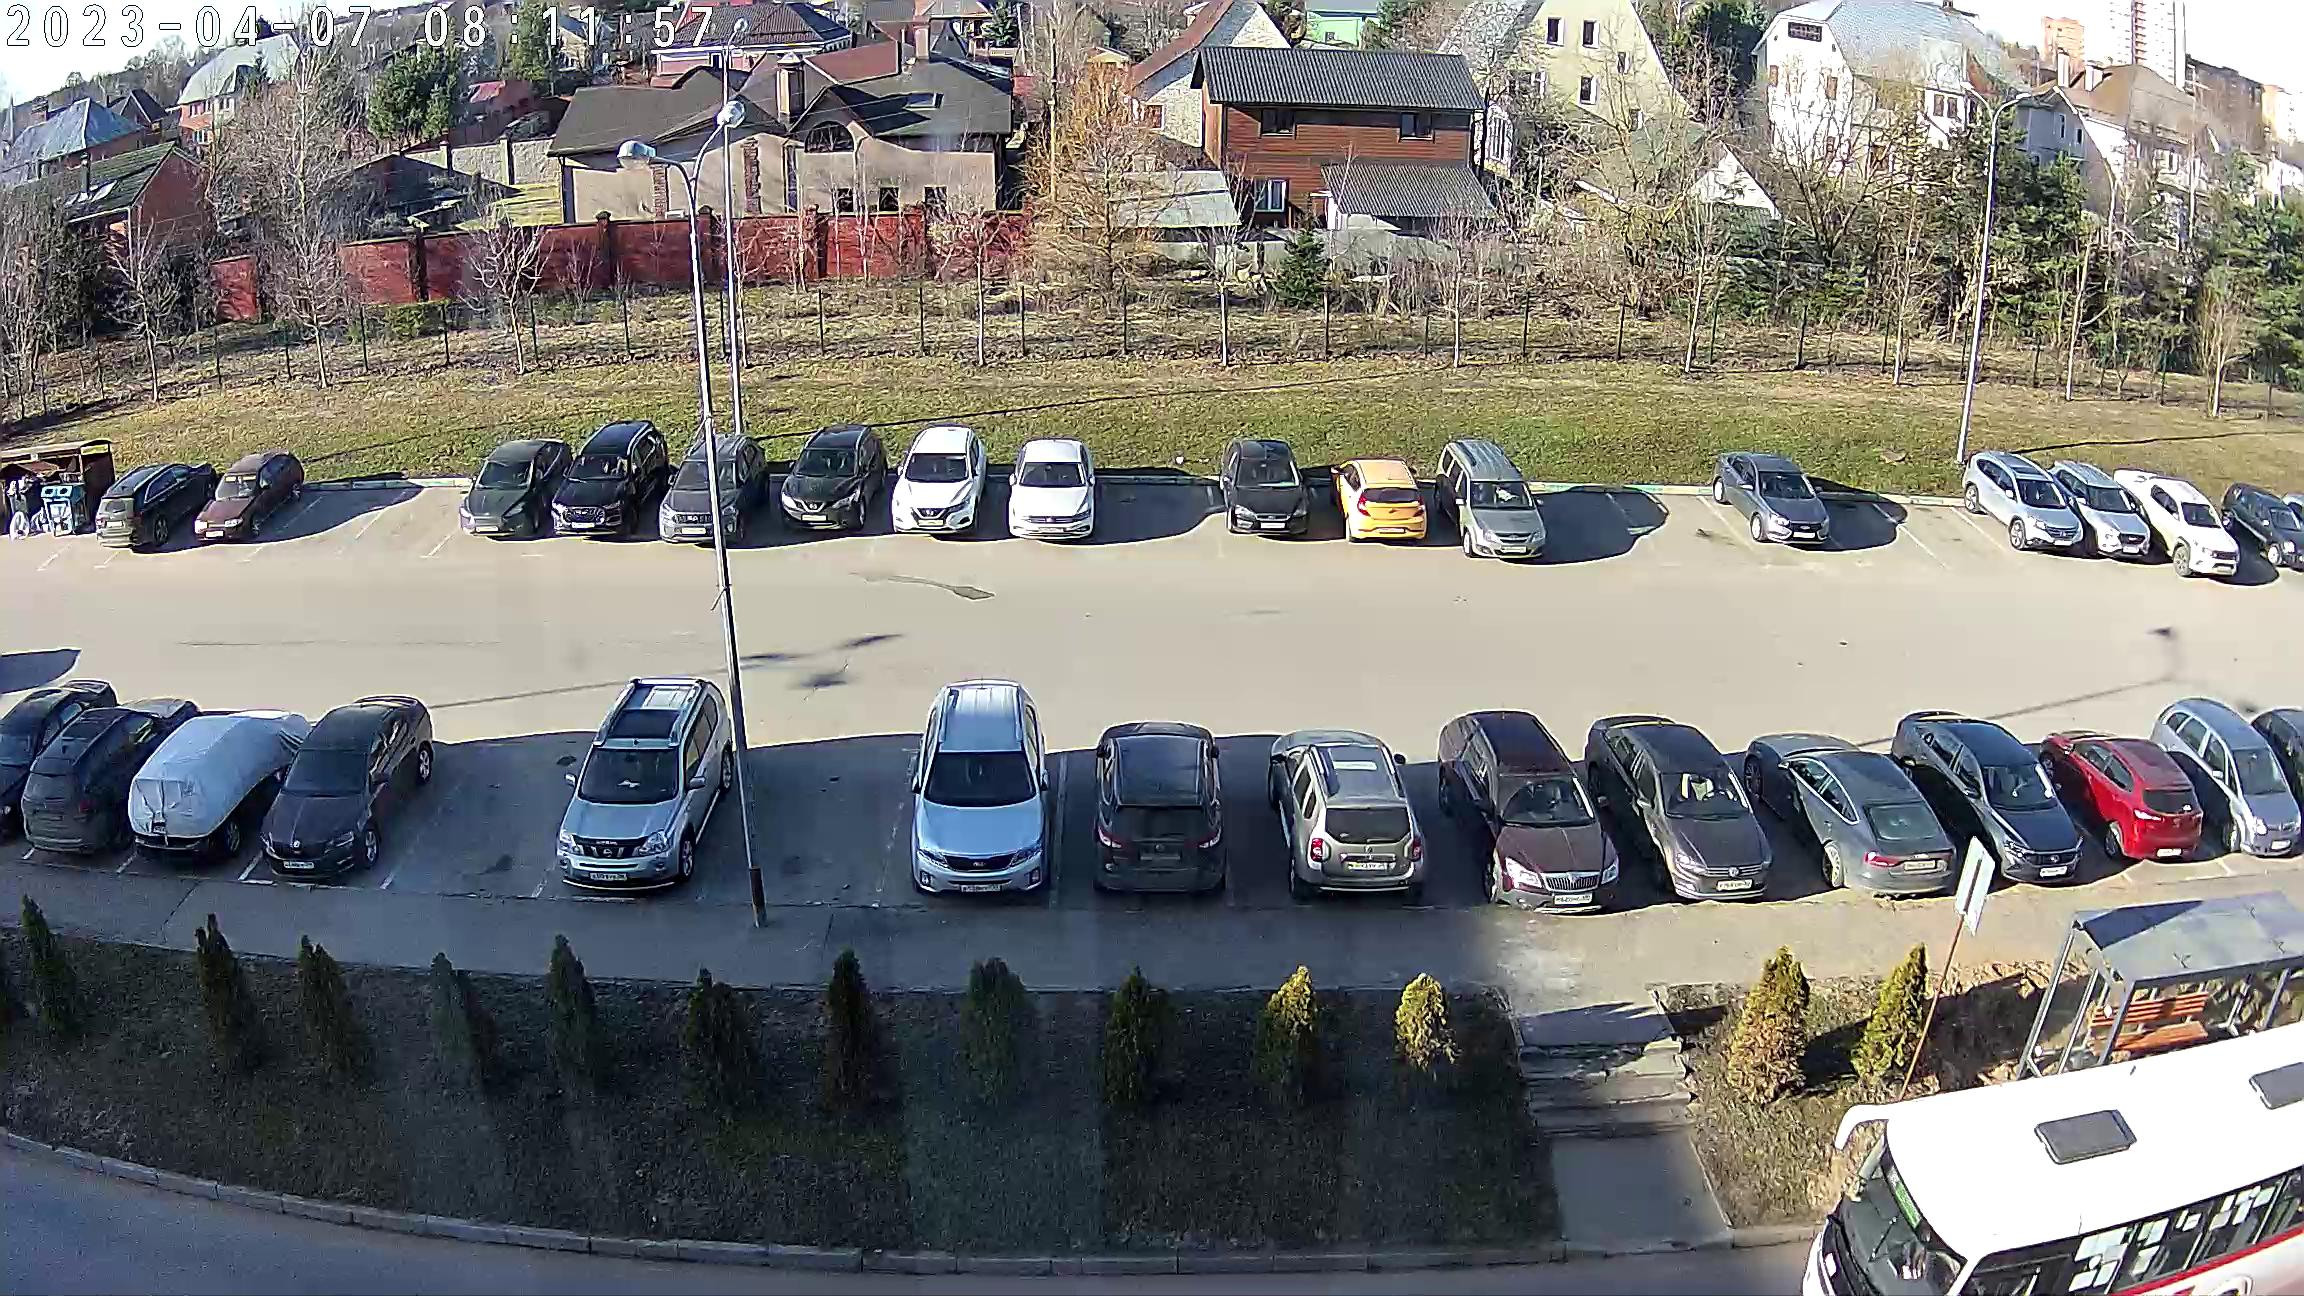empty: (878, 671, 1082, 896), (527, 684, 742, 891), (218, 706, 445, 886), (1605, 728, 1812, 904), (1453, 728, 1644, 905), (1263, 733, 1456, 904), (100, 706, 301, 864), (1779, 744, 1983, 896), (1074, 731, 1256, 899), (1921, 729, 2106, 886), (6, 685, 141, 866), (2052, 731, 2215, 866), (2181, 698, 2304, 866), (514, 419, 674, 541), (1957, 459, 2130, 559), (1707, 457, 1878, 557), (2125, 476, 2285, 579), (752, 430, 889, 538), (149, 462, 309, 546), (883, 424, 1002, 533), (97, 448, 215, 554), (987, 440, 1106, 544), (1446, 456, 1560, 559), (1214, 445, 1334, 541), (649, 438, 758, 544), (1331, 465, 1445, 544), (2217, 484, 2301, 578), (2249, 1054, 2304, 1122)
occupied: (419, 783, 555, 881), (745, 799, 897, 886), (293, 454, 386, 560), (1885, 472, 1986, 568), (1109, 462, 1212, 555), (1624, 465, 1715, 570), (1529, 476, 1624, 568), (1825, 464, 1896, 559), (396, 472, 468, 559)
